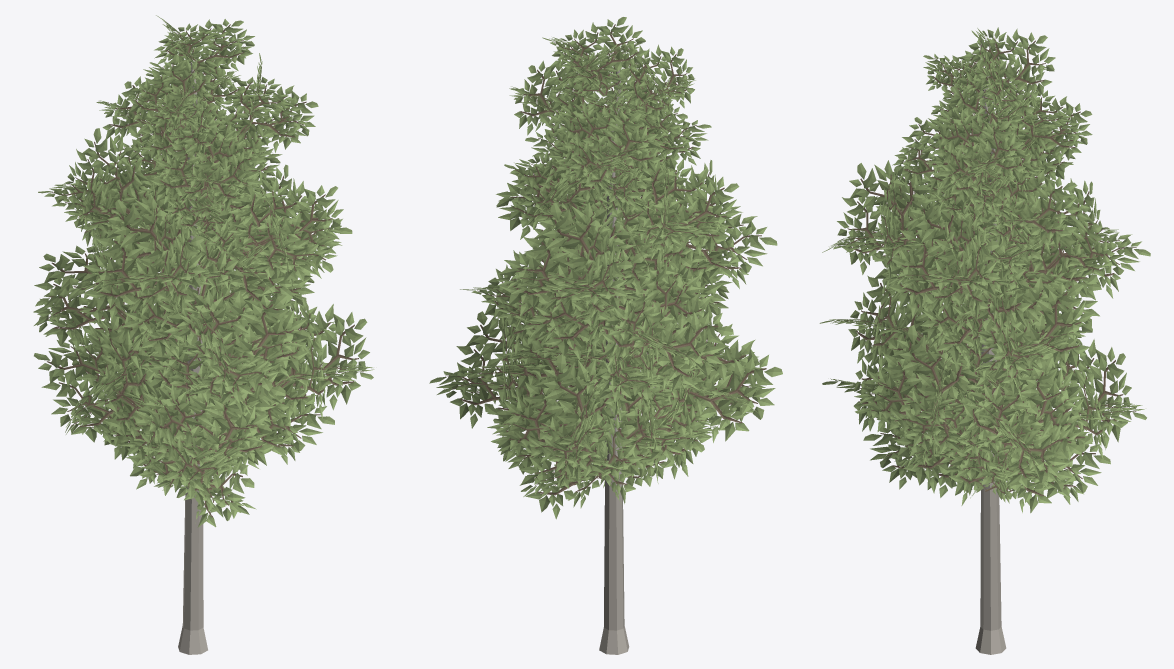
File: SM_Tree_Birch_01_LOD_01.fbx
The picture shows the model from 3 angles, left to right: view 1: azimuth 30°, elevation 25°; view 2: azimuth 150°, elevation 25°; view 3: azimuth 270°, elevation 25°; orthographic projection.
Parts seen in each view (by area): view 1: SM_Tree_Birch_01_LOD_01; view 2: SM_Tree_Birch_01_LOD_01; view 3: SM_Tree_Birch_01_LOD_01.
Boxes of the visible parts, <box> form: SM_Tree_Birch_01_LOD_01: <box>33,15,374,654</box>; SM_Tree_Birch_01_LOD_01: <box>429,17,782,654</box>; SM_Tree_Birch_01_LOD_01: <box>819,27,1150,654</box>.
Size of the model in its own units: 245 by 455 by 229.
